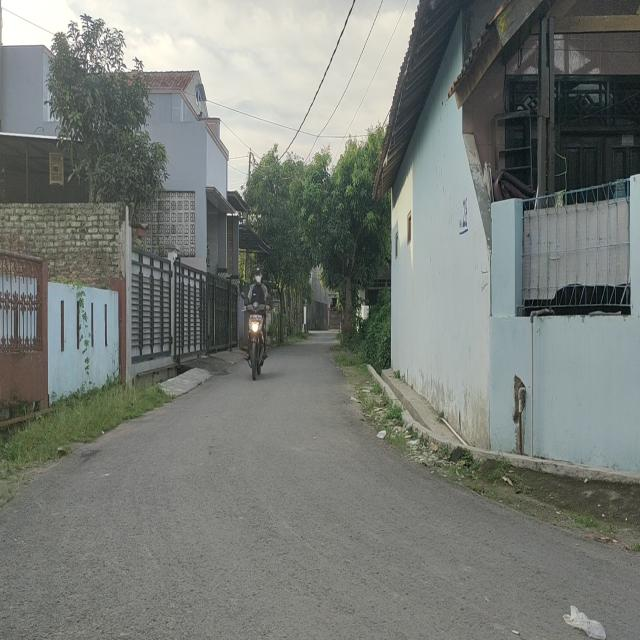no-helmet: (254, 263, 265, 285)
